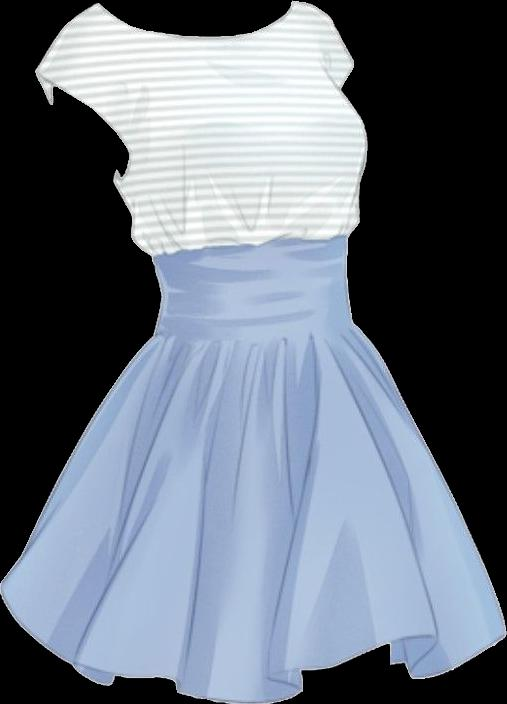Bodice: (35, 1, 367, 258)
Hemline: (0, 584, 506, 703)
Neckline: (96, 0, 298, 43)
Skirt: (0, 236, 506, 702)
Waistline: (152, 232, 353, 263), (151, 317, 357, 346)
